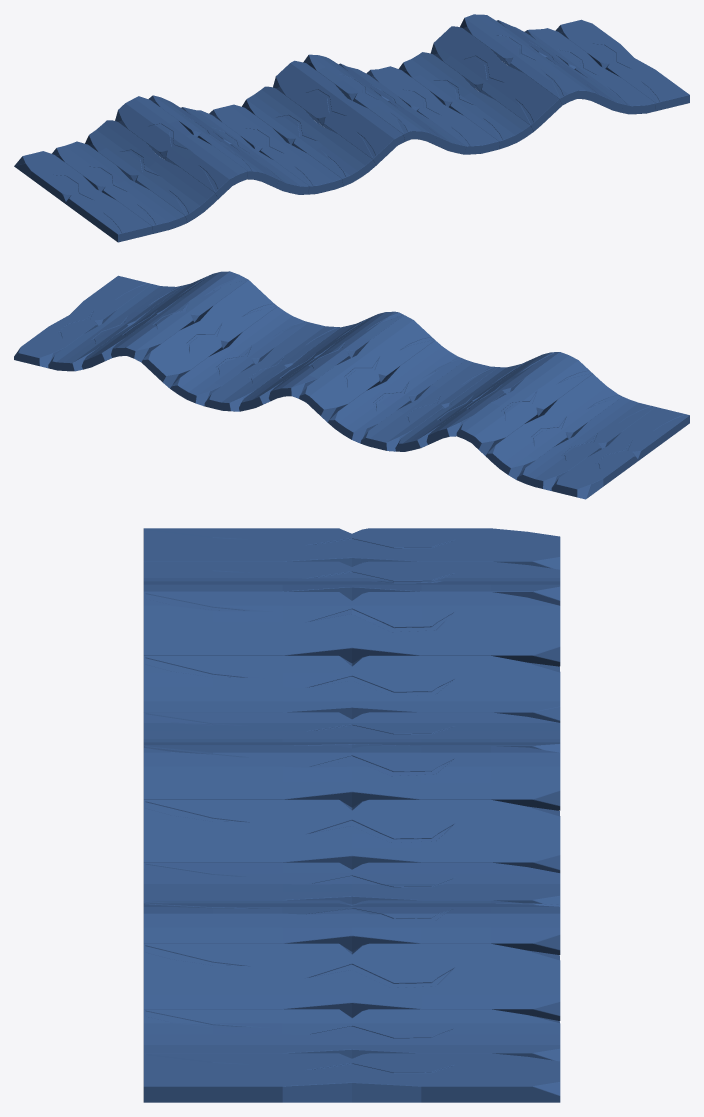
Rendered from Wooden Platform.fbx.
3 renders of one model, top to bottom at view 1: azimuth 30°, elevation 25°; view 2: azimuth 150°, elevation 25°; view 3: azimuth 270°, elevation 25°, orthographic. The views are drawn at different scales.
Visible parts, largest first — view 1: Cube.008; view 2: Cube.008; view 3: Cube.008.
Part boxes in pixels (box(x1,y1,x2,y2)): Cube.008: box(14, 14, 689, 242); Cube.008: box(14, 271, 689, 499); Cube.008: box(143, 528, 560, 1102).
Bounding box in the file's own units: 927 × 62.53 × 292.
